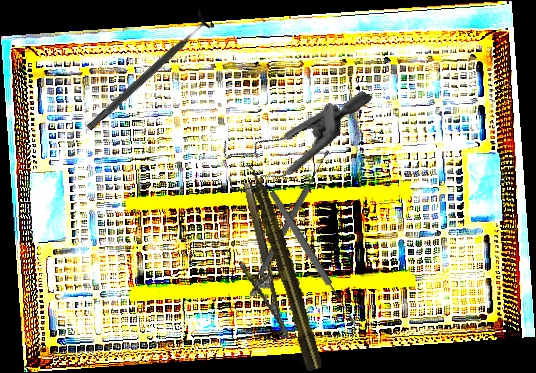Fixation Ring: (79, 8, 217, 138)
Handpiece: (242, 159, 326, 373)
Needle Holder: (221, 181, 289, 341)
Speculum: (206, 44, 373, 228)
Surgical Spoon: (267, 189, 358, 326), (256, 148, 332, 278)
